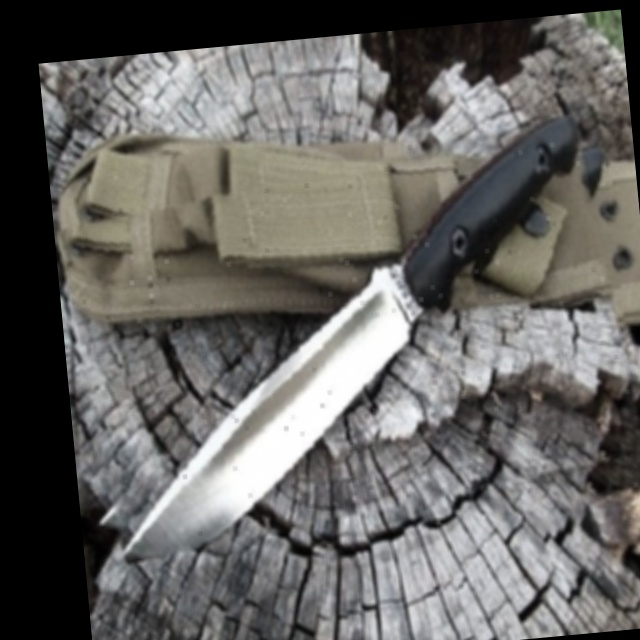Sharp-Object: (61, 128, 640, 551)
